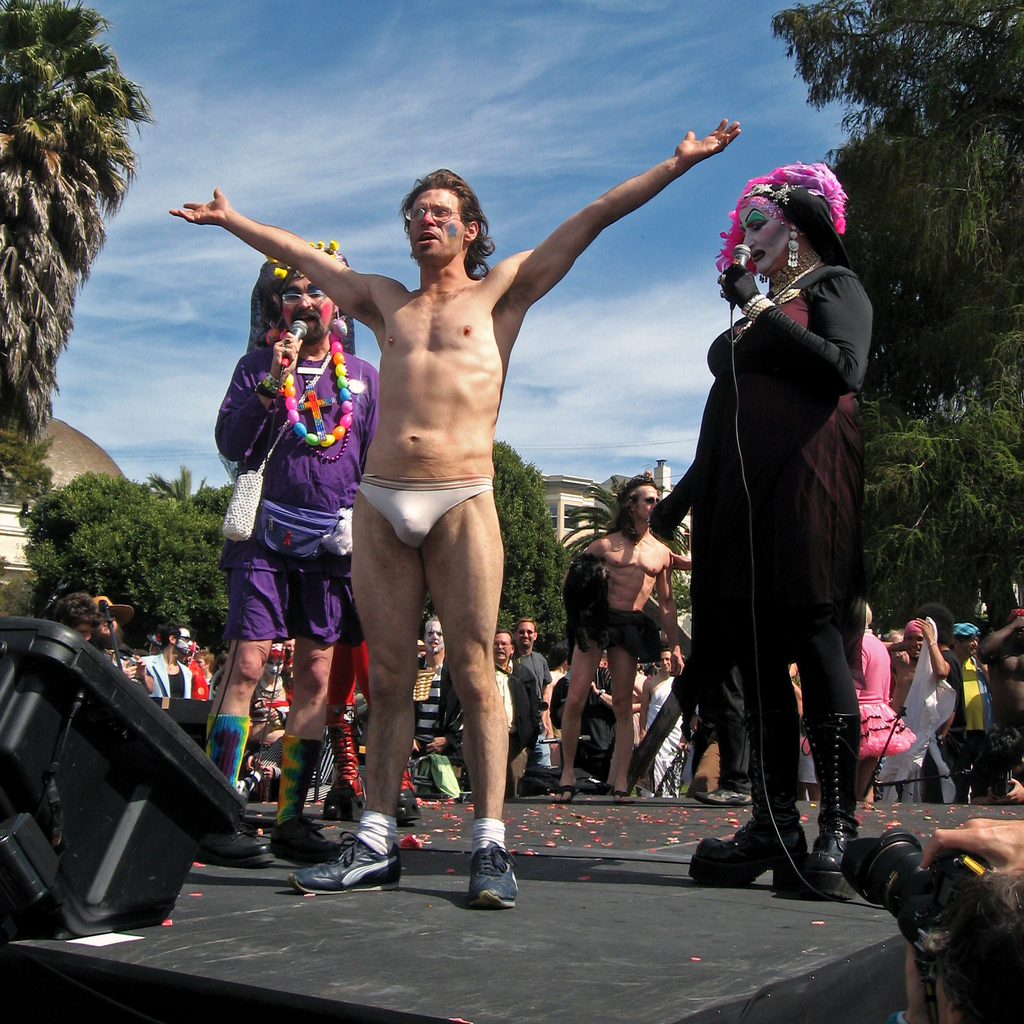Tree: (768, 0, 1023, 631), (1, 3, 152, 496), (17, 460, 231, 647), (494, 427, 560, 644), (560, 469, 696, 554)
